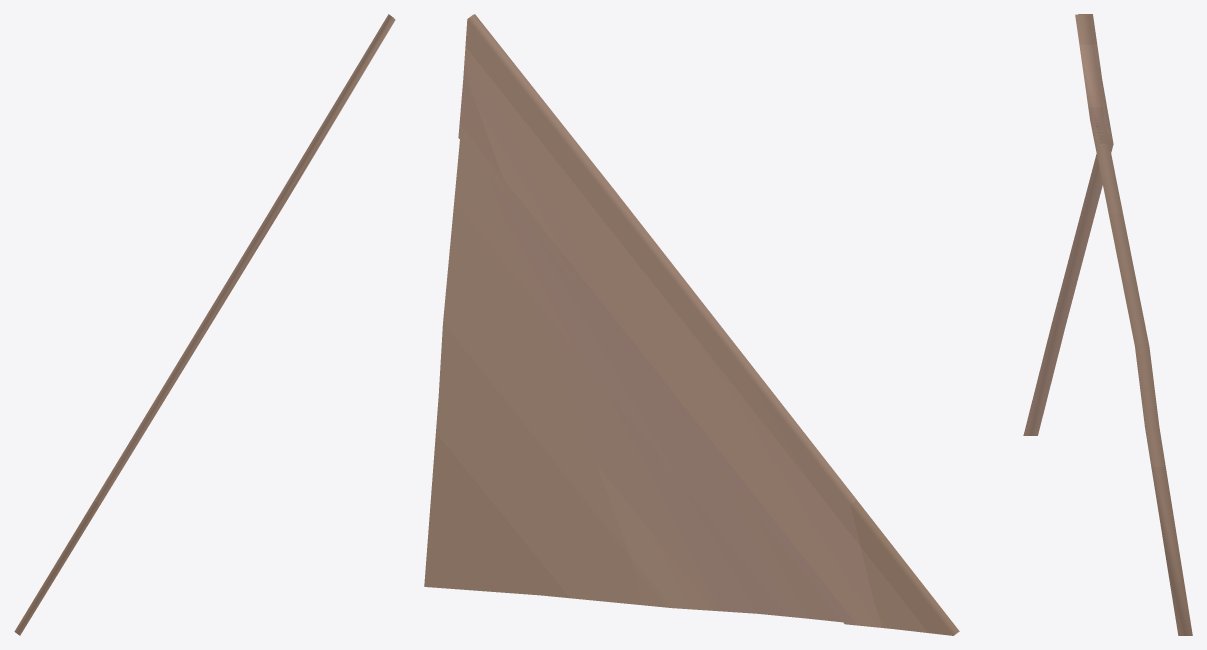
3 renders of one model, left to right at view 1: azimuth 30°, elevation 25°; view 2: azimuth 150°, elevation 25°; view 3: azimuth 270°, elevation 25°, orthographic. The views are drawn at different scales.
Size of the model in its own units: 0.412 by 0.4721 by 0.1408.
Materials: 1 (1 with a texture image).
